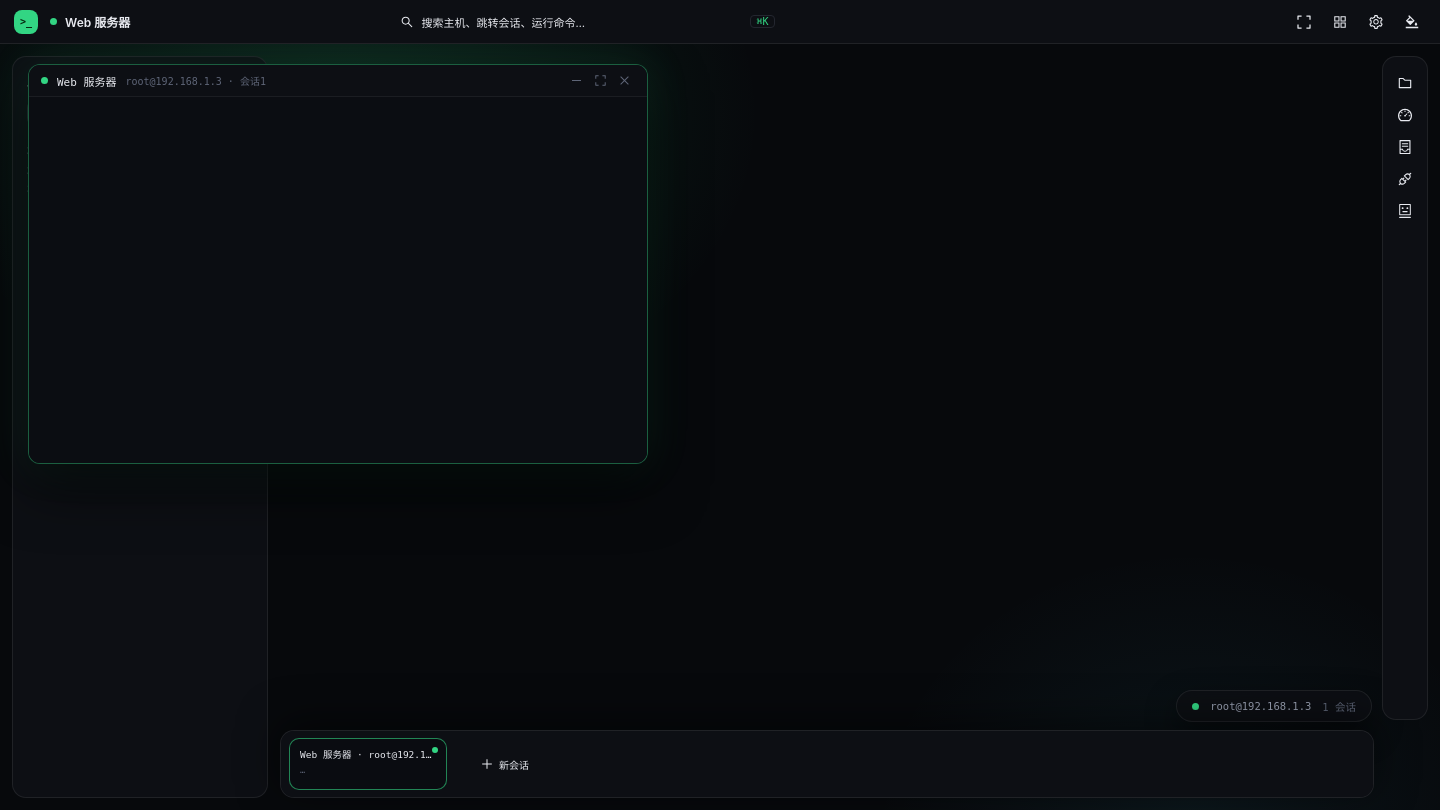
it: CockpitLayout › 专注模式隐藏主机墙与停靠栏
Expected: the element with class "ck-wall" is shown, 12,56 -> 268,798
Expected: the element with class "ck-dock" is shown, 280,730 -> 1374,798
Click the button titled "专注模式".
click(1304, 22)  # box 1290,8 -> 1318,36
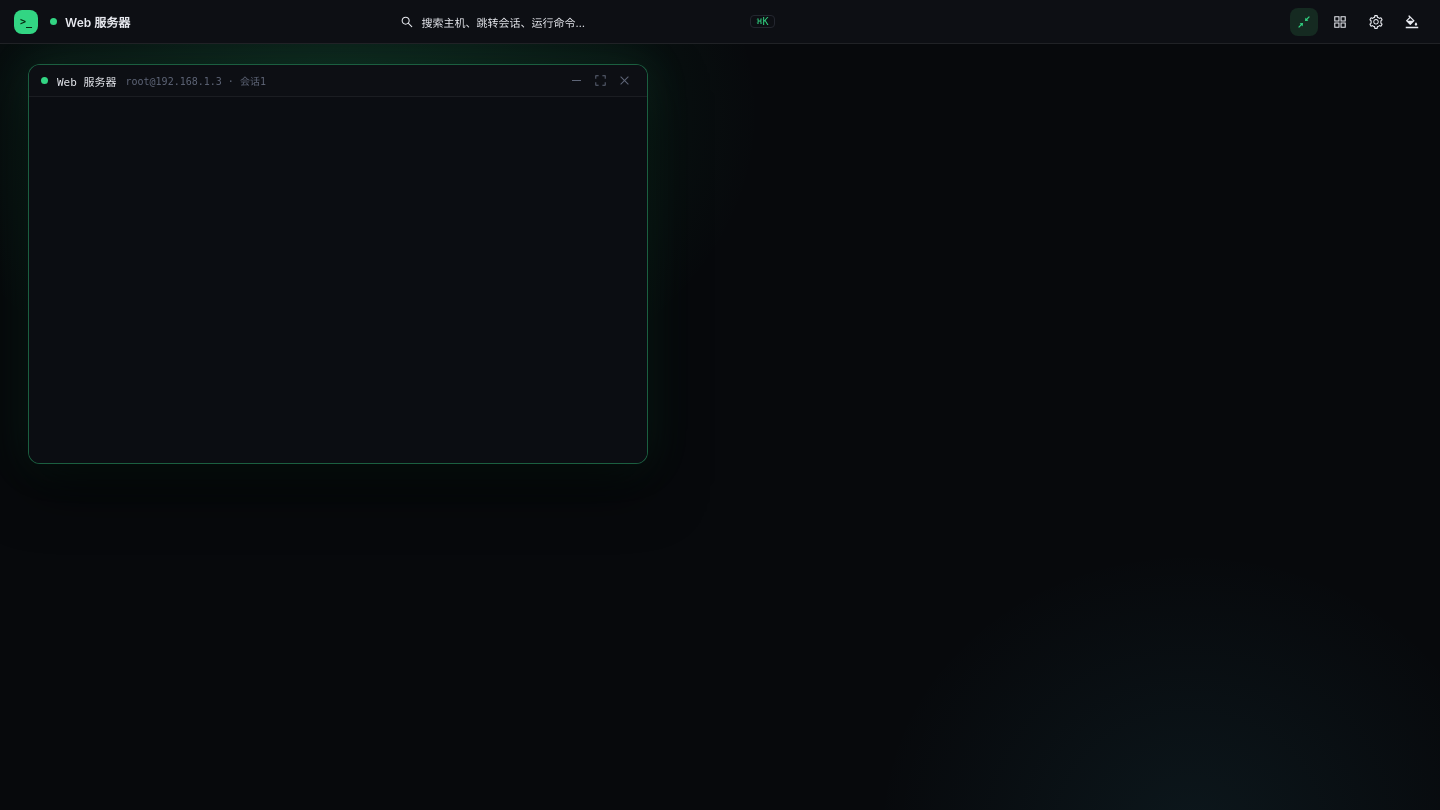
Expected: the number of elements with class "ck-win" is 1, 28,64 -> 648,464
Result: the element with class "ck-wall" is gone
Result: the element with class "ck-dock" is gone
